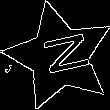N_W: (29, 31, 89, 82)
